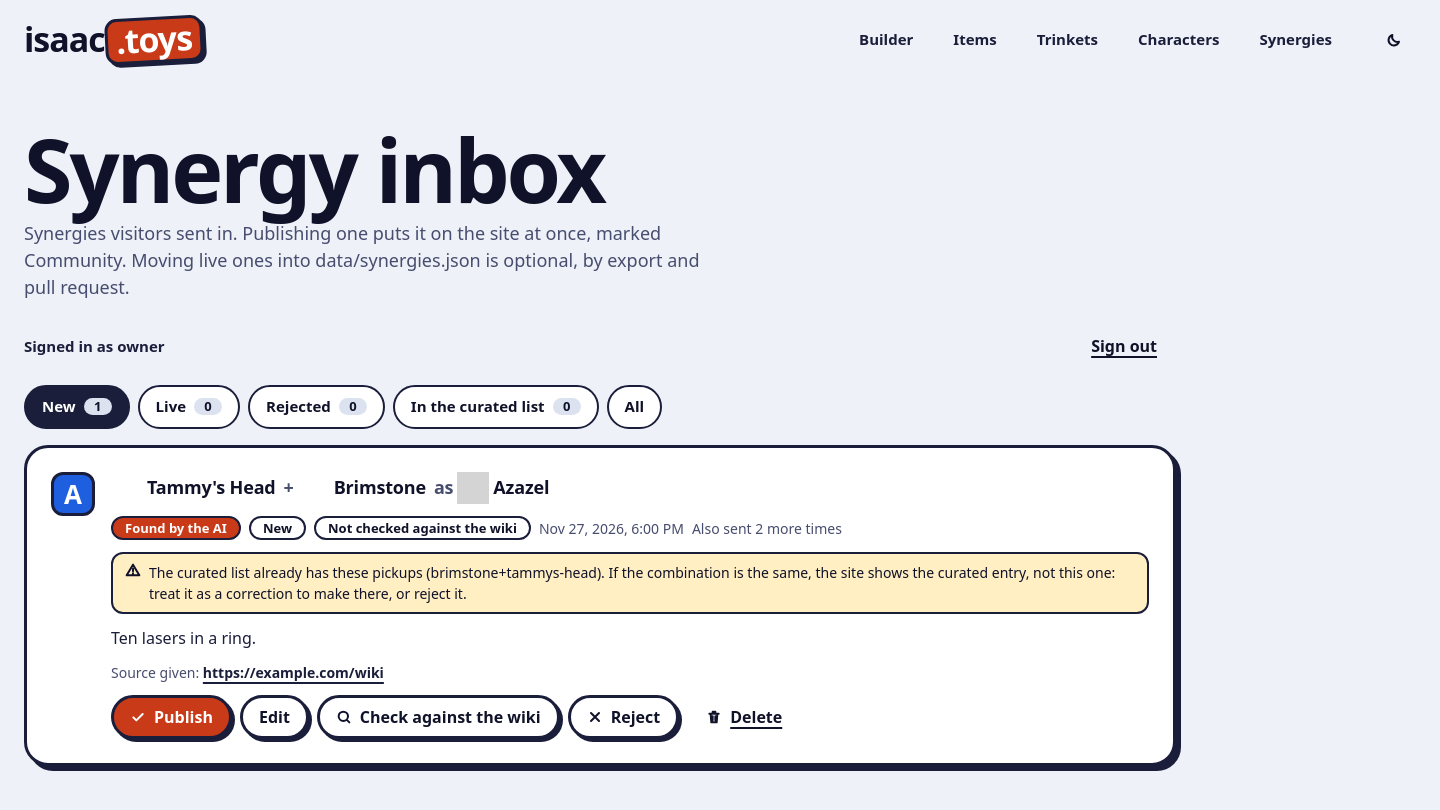
Test: admin inbox › shows an error it didn't expect without losing the inbox
Expected: the heading "Synergy inbox" is shown, [24, 109, 604, 229]
Expected: the text "Ten lasers in a ring." is shown, [111, 628, 256, 650]
Click the button "Publish" at point(171, 718), box [111, 696, 232, 740]
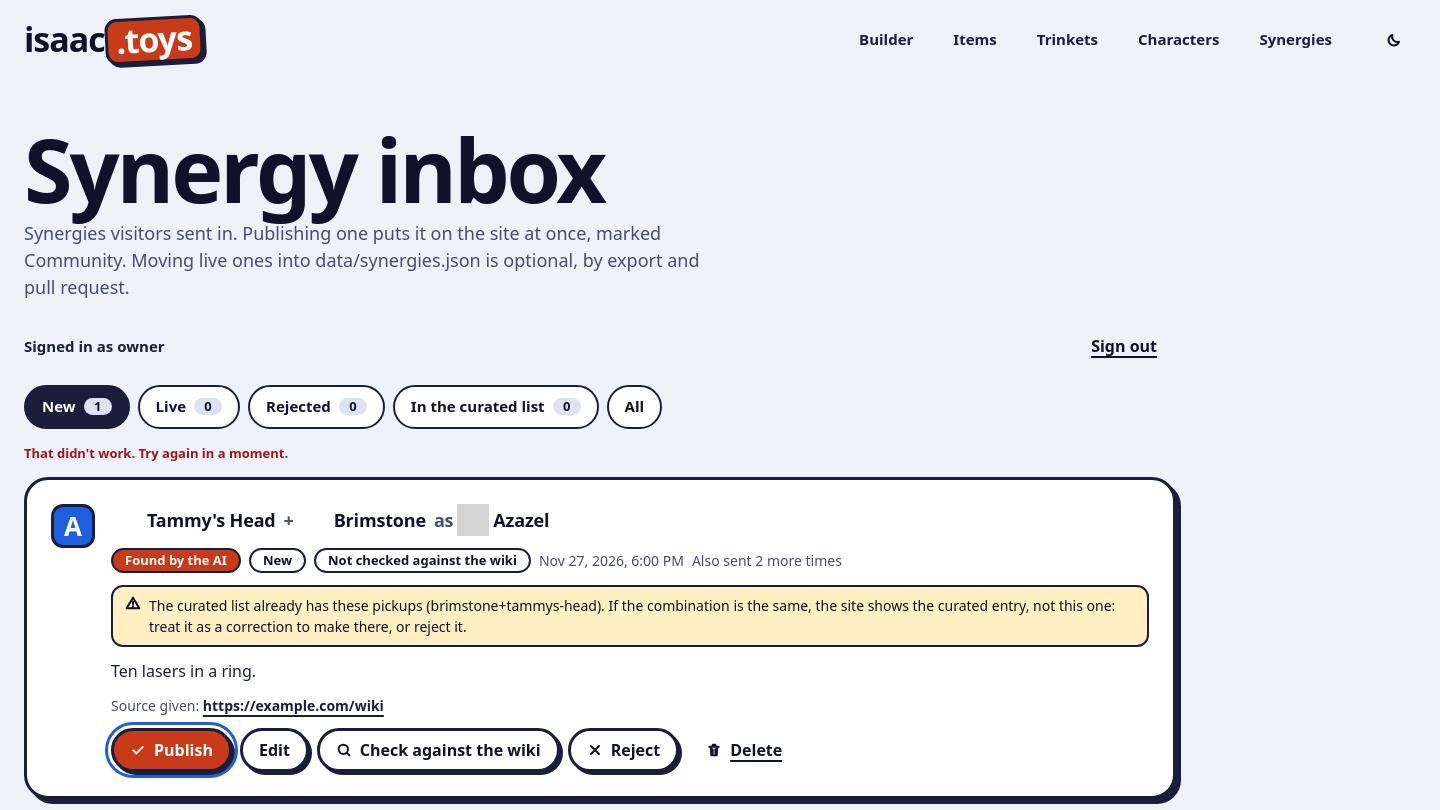
Expected: the text "Ten lasers in a ring." is shown, [111, 660, 256, 682]
Expected: the message reads "That didn't work. Try again in a moment.", [24, 444, 288, 462]
